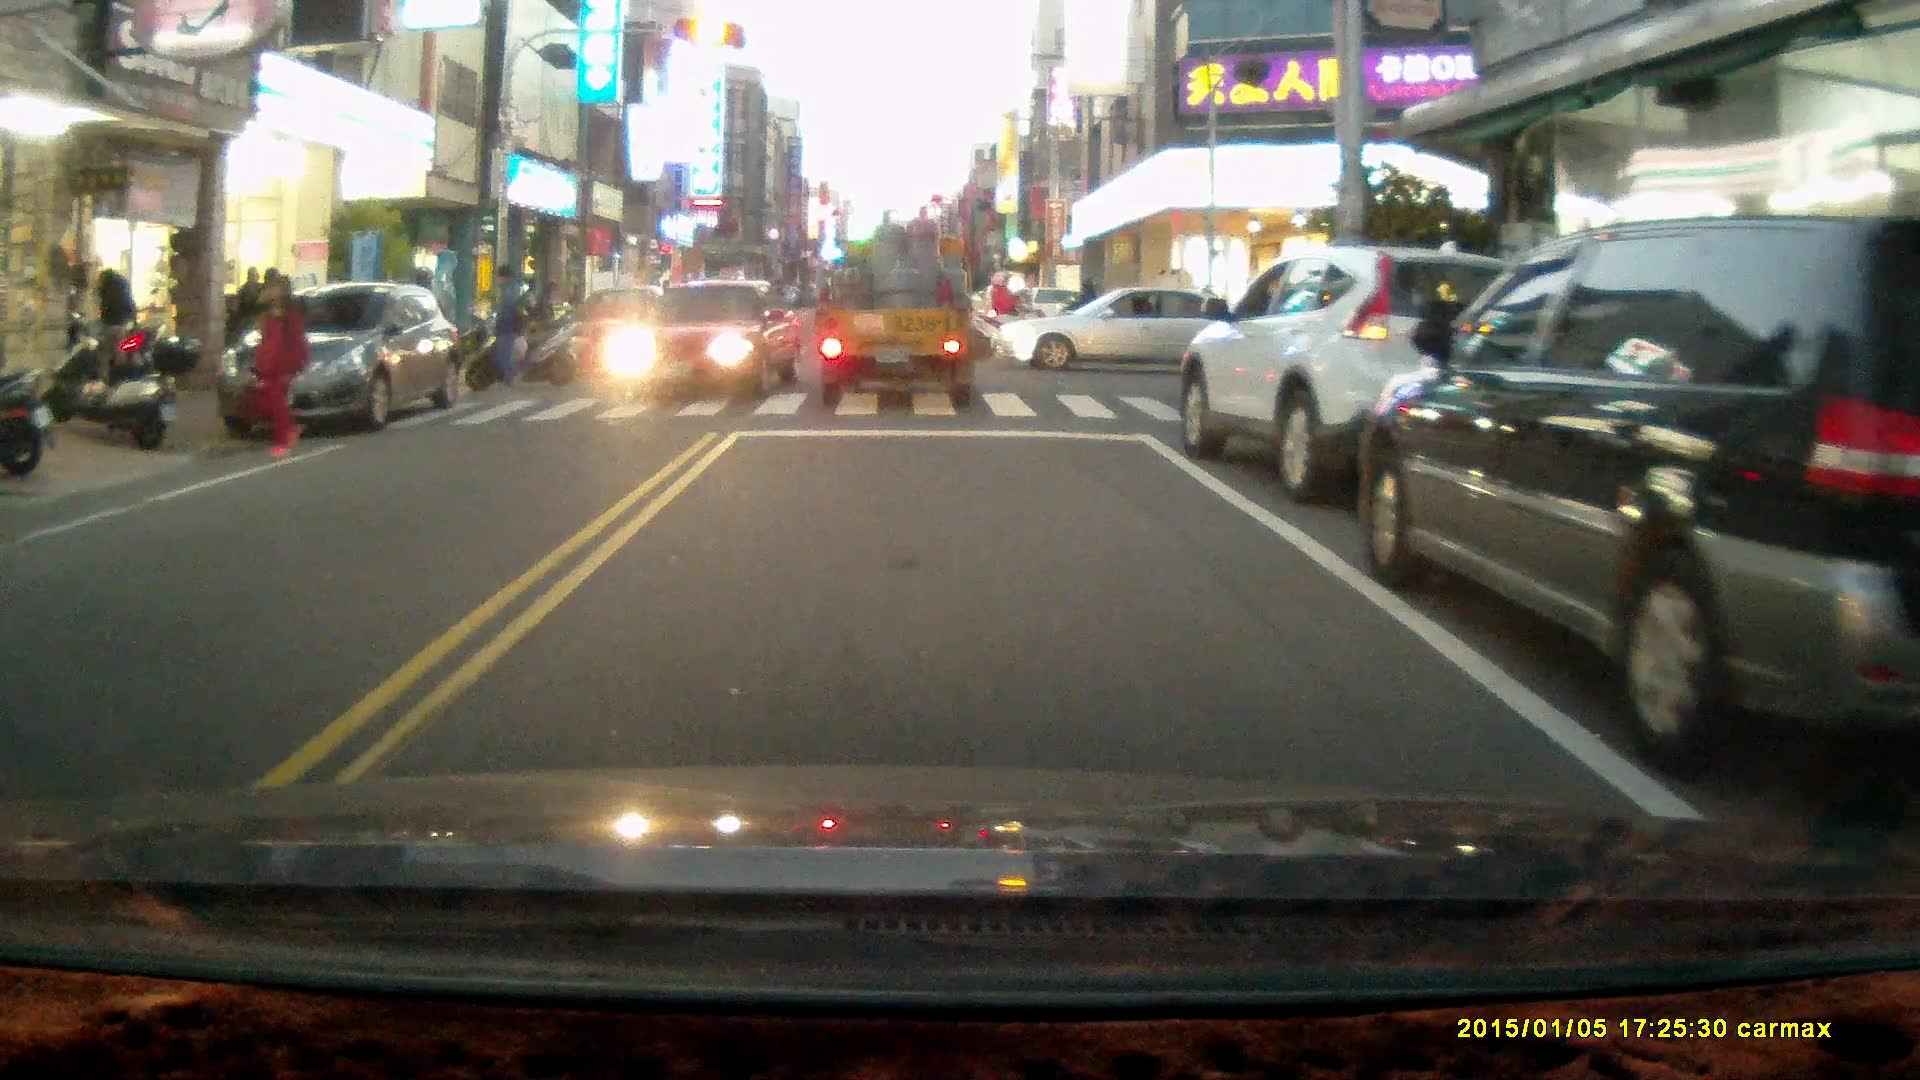pedestrian: (245, 271, 312, 460), (480, 267, 532, 397), (93, 264, 138, 379)
rider: (962, 266, 1048, 356)
vehicle: (1366, 215, 1920, 790), (1178, 245, 1566, 502), (217, 286, 453, 445), (816, 204, 991, 414), (603, 279, 805, 406), (1005, 287, 1266, 374)
